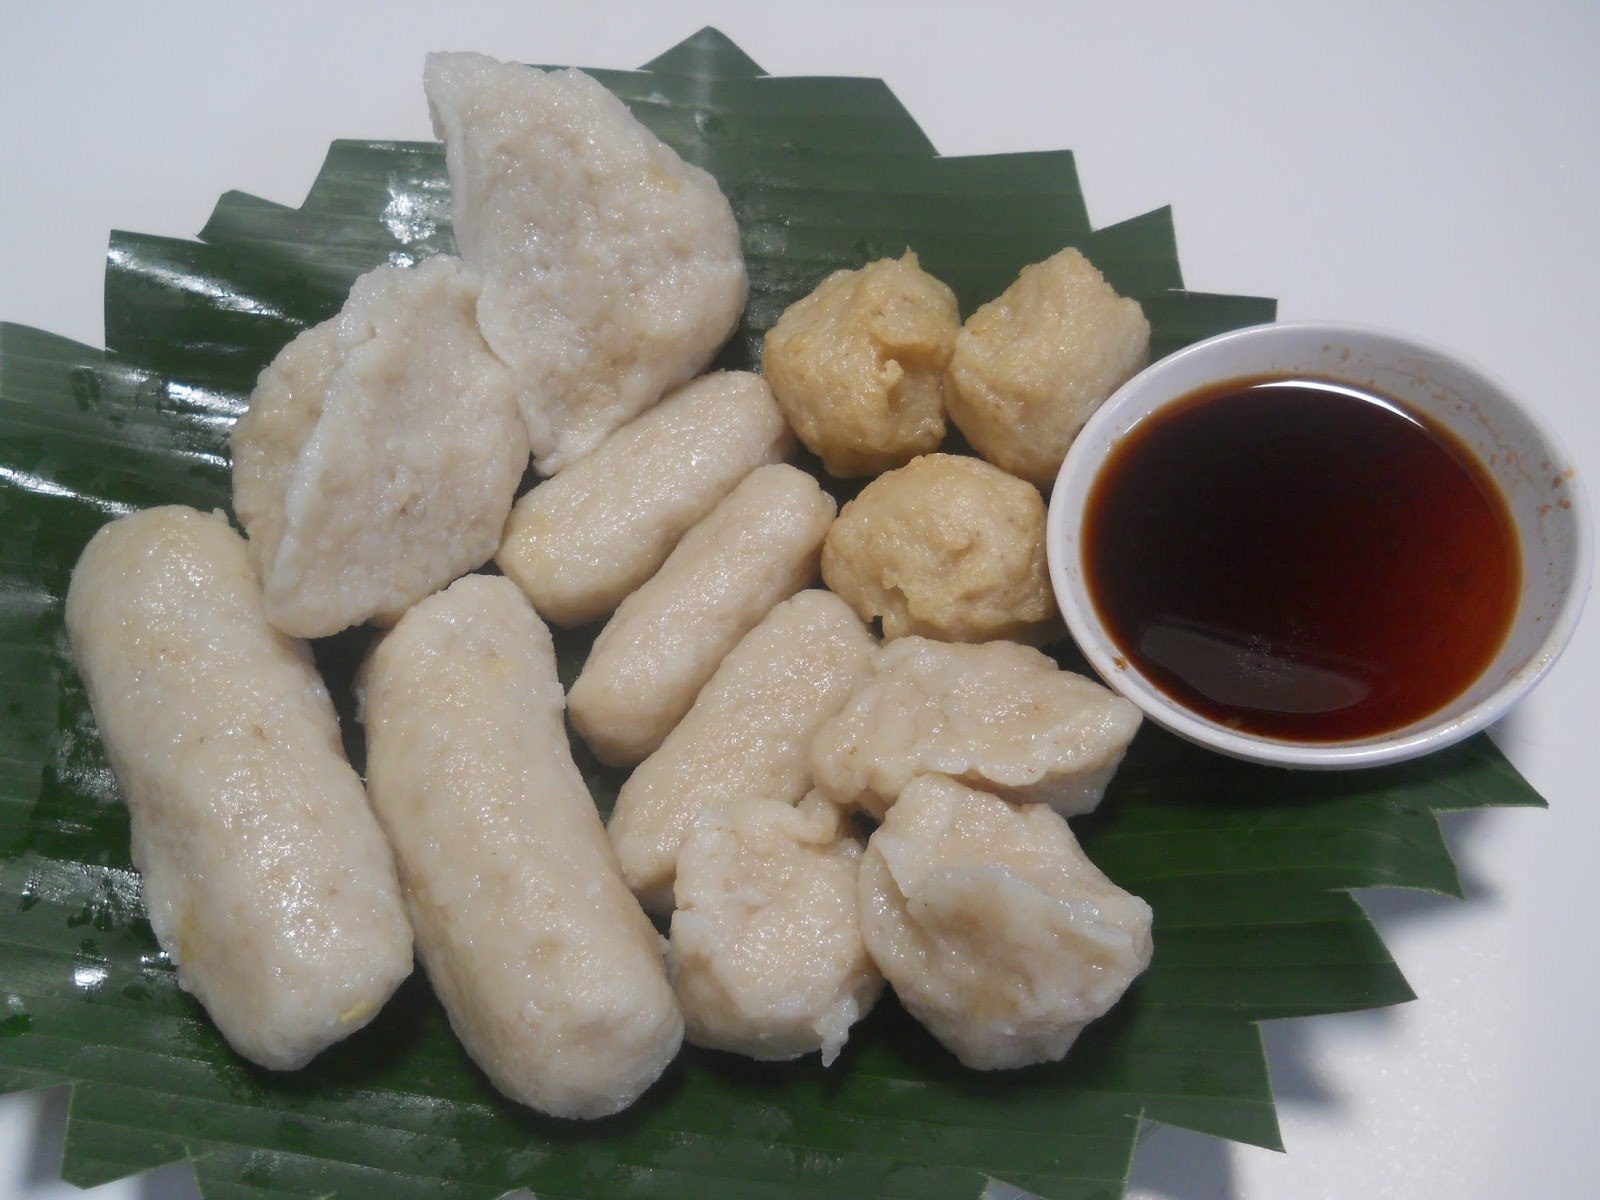pempek: (59, 50, 1584, 1118)
